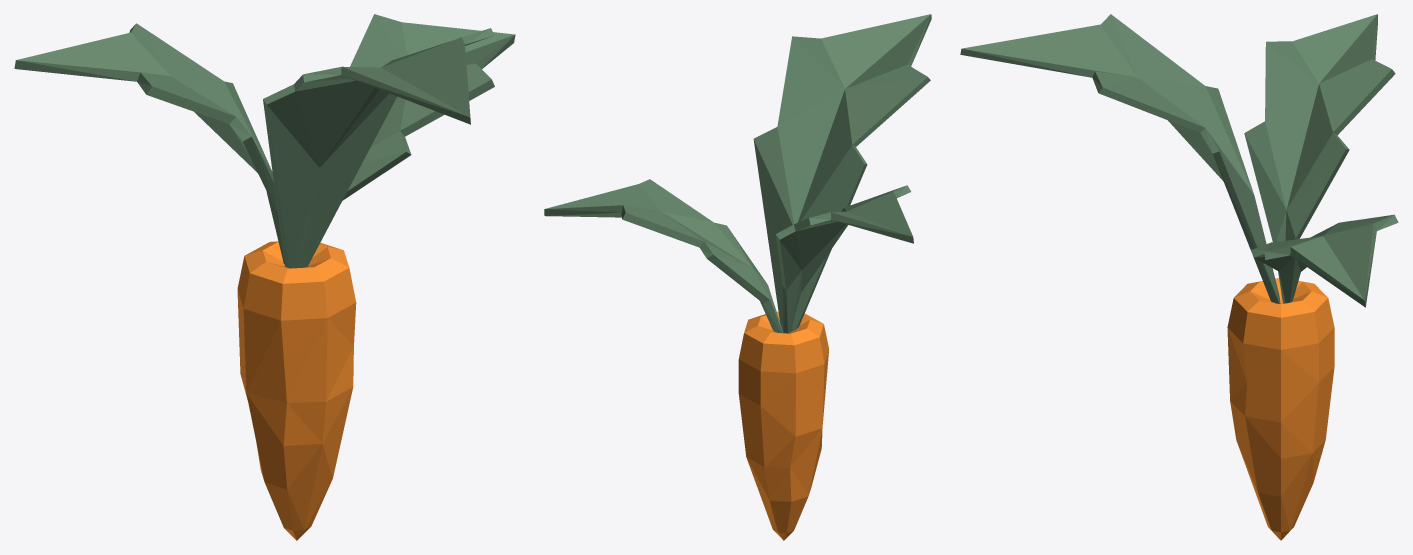
File: carrot.fbx
3 views of the same model, side by side, from view 1: azimuth 30°, elevation 25°; view 2: azimuth 150°, elevation 25°; view 3: azimuth 270°, elevation 25° (orthographic). The views are drawn at different scales.
Visible parts, largest first — view 1: carrot; view 2: carrot; view 3: carrot.
Boxes of the visible parts, box(x1,y1,x2,y2) form: carrot: box(14, 14, 515, 540); carrot: box(544, 14, 931, 540); carrot: box(960, 14, 1398, 540).
Bounding box in the file's own units: 43.73 × 48.08 × 38.63.
